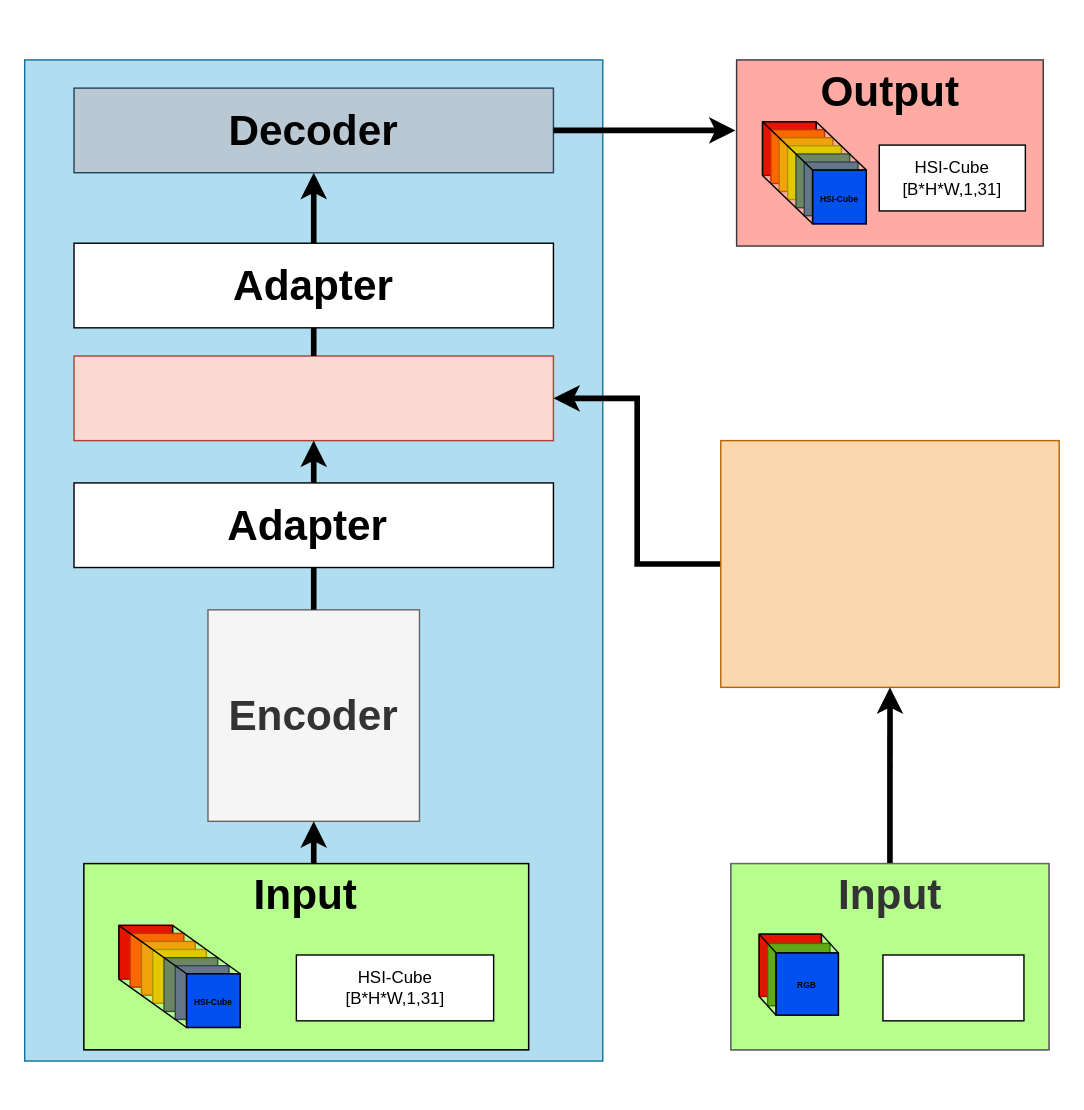
Some shapes in this 1084 by 1110 pixel diagram are drawn without their labels. The centre of each missing label's shape, as x and y in pixels:
Laten Space: the point at 313,398
RGB [B,3,H,W]: the point at 953,987
Student: the point at 889,563
